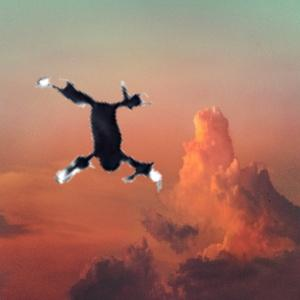drone: (1, 50, 187, 236)
